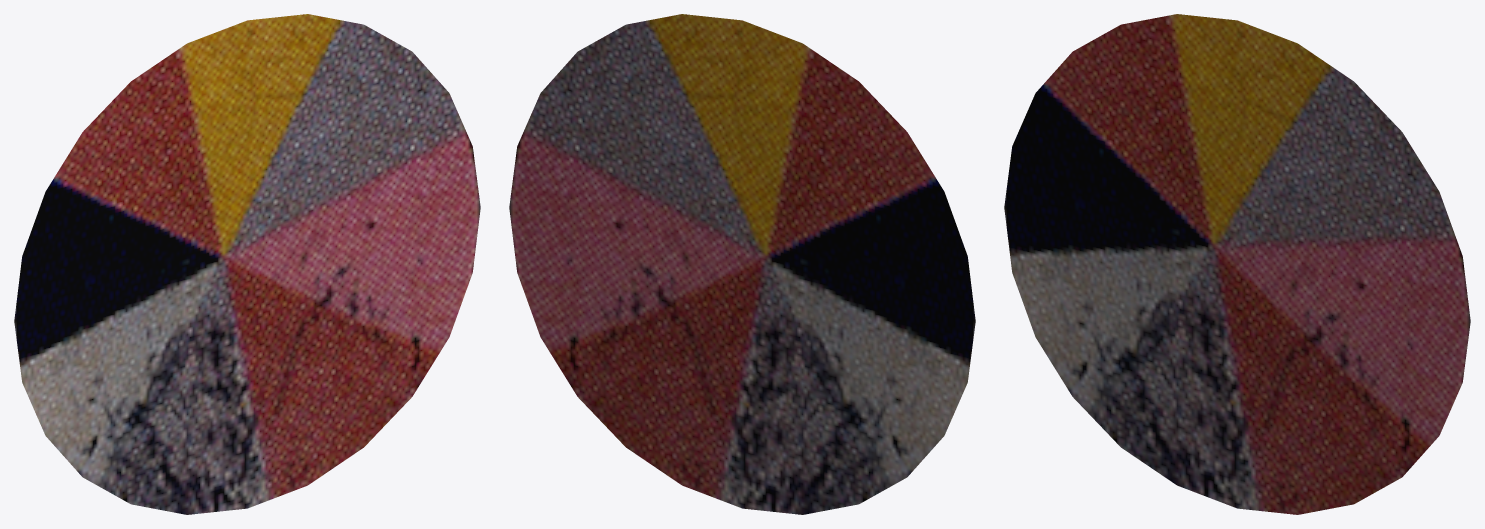
The model's file is sc3_dot3.fbx.
3 renders of one model, left to right at view 1: azimuth 30°, elevation 25°; view 2: azimuth 150°, elevation 25°; view 3: azimuth 330°, elevation 25°, orthographic.
Visible parts, largest first — view 1: pDisc2; view 2: pDisc2; view 3: pDisc2.
Part boxes in pixels (x1=…): pDisc2: x1=14, y1=14, x2=480, y2=514; pDisc2: x1=509, y1=14, x2=975, y2=514; pDisc2: x1=1004, y1=14, x2=1470, y2=514.
Size of the model in its own units: 1.56 by 1.56 by 9.54e-17.
Materials: 1 (1 with a texture image).
